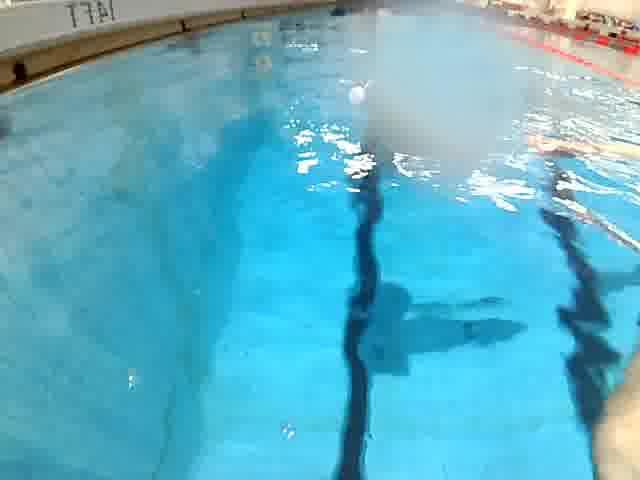Bottle: (341, 70, 421, 120)
